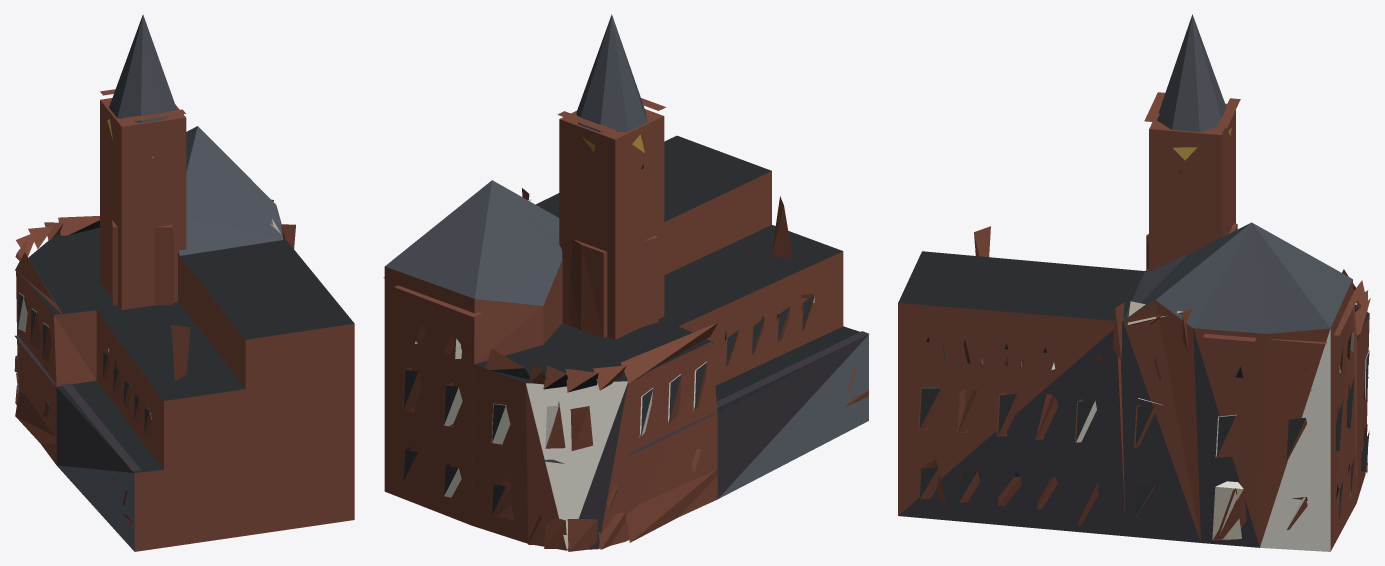
Rendered from politiebureau-raampoort.lod2.glb.
The picture shows the model from 3 angles, left to right: view 1: azimuth 30°, elevation 25°; view 2: azimuth 150°, elevation 25°; view 3: azimuth 270°, elevation 25°; orthographic projection. The views are drawn at different scales.
Visible parts, largest first — view 1: lod2; view 2: lod2; view 3: lod2.
Part boxes in pixels (x1,y1,x2,y2): lod2: (14, 14, 354, 551); lod2: (383, 14, 869, 551); lod2: (898, 14, 1370, 551).
Size of the model in its own units: 18.86 by 28.3 by 26.26.
